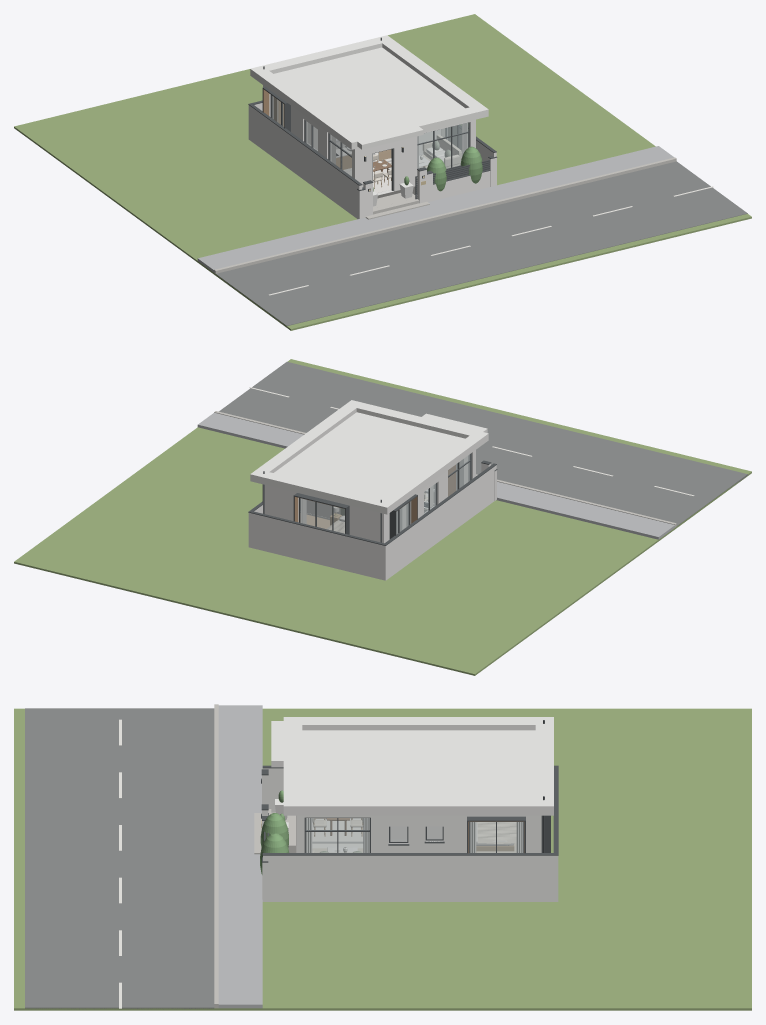
3 renders of one model, top to bottom at view 1: azimuth 30°, elevation 25°; view 2: azimuth 150°, elevation 25°; view 3: azimuth 270°, elevation 25°, orthographic. The views are drawn at different scales.
Parts seen in each view (by area): view 1: world, roof-slab, roof-overhang, roof-upstand, F0-W002/0, exterior-porch-01-slab; view 2: world, roof-slab, roof-overhang, roof-upstand, F0-W007/1; view 3: world, roof-slab, roof-overhang, roof-upstand, exterior-porch-01-slab, F0-dining/floor, F0-W019/1, F0-W016/0.
Part boxes in pixels (x1,y1,x2,y2): world: [14, 14, 751, 330]; roof-slab: [274, 47, 464, 134]; roof-overhang: [250, 35, 488, 149]; roof-upstand: [263, 40, 475, 137]; F0-W002/0: [359, 143, 415, 191]; exterior-porch-01-slab: [353, 123, 423, 149]; world: [14, 359, 751, 675]; roof-slab: [274, 412, 464, 499]; roof-overhang: [250, 400, 488, 514]; roof-upstand: [264, 405, 475, 502]; F0-W007/1: [263, 485, 379, 541]; world: [14, 704, 751, 1010]; roof-slab: [302, 730, 535, 798]; roof-overhang: [283, 717, 553, 815]; roof-upstand: [296, 722, 541, 800]; exterior-porch-01-slab: [271, 721, 296, 767]; F0-dining/floor: [312, 818, 363, 841]; F0-W019/1: [457, 817, 535, 852]; F0-W016/0: [302, 817, 385, 852].
Bounding box in the file's own units: 25.7 × 4.08 × 26.67.
